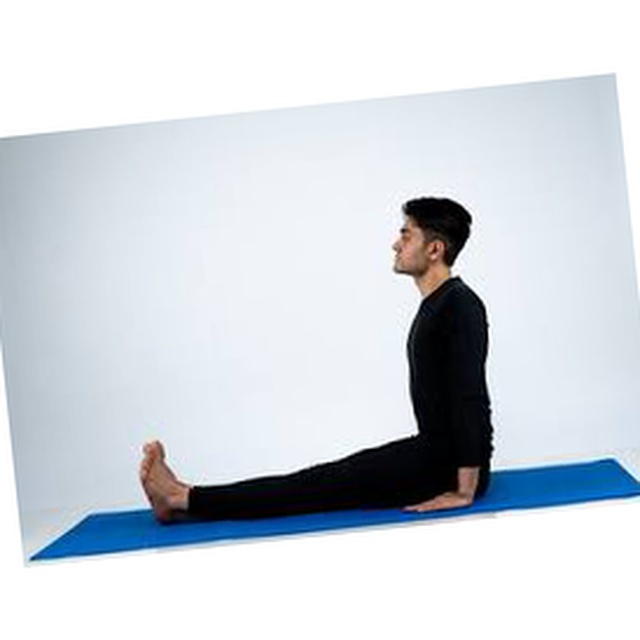Staff_Pose: (139, 197, 496, 528)
